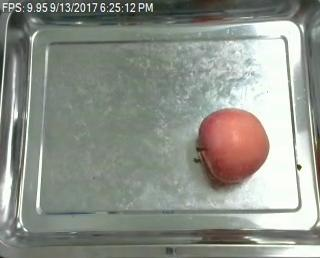apple: (196, 107, 270, 183)
